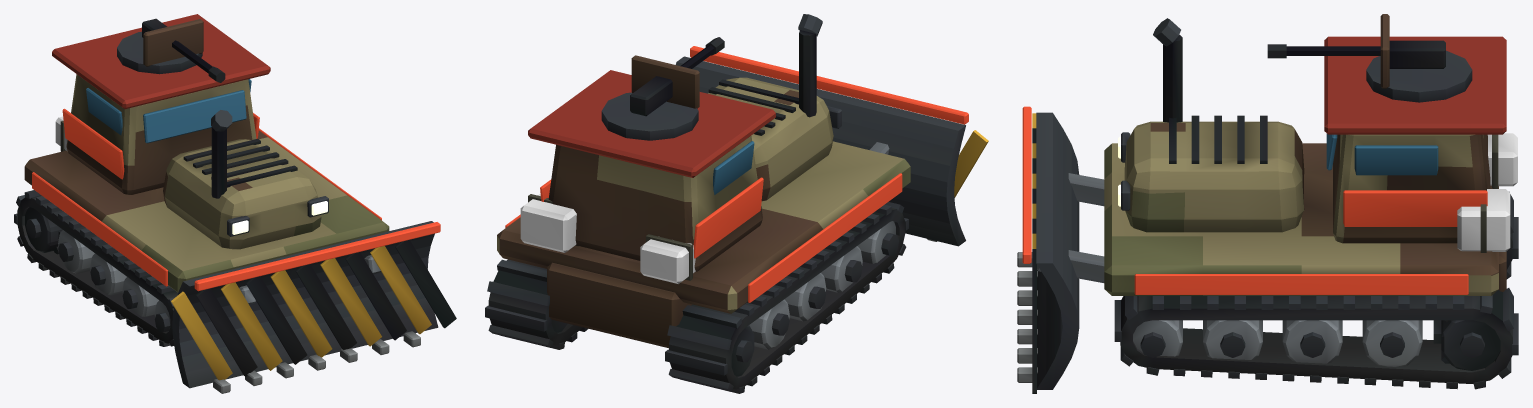
File: bulwark.glb
3 views of the same model, side by side, from view 1: azimuth 30°, elevation 25°; view 2: azimuth 150°, elevation 25°; view 3: azimuth 270°, elevation 25° (orthographic). The views are drawn at different scales.
Visible parts, largest first — view 1: geo_body, geo_track_right, geo_turret, geo_barrel; view 2: geo_body, geo_track_right, geo_turret, geo_track_left, geo_barrel; view 3: geo_body, geo_track_left, geo_turret, geo_barrel, geo_track_right.
Part boxes in pixels (x1,y1,x2,y2): geo_body: [24, 14, 456, 393]; geo_track_right: [14, 190, 177, 346]; geo_turret: [117, 18, 203, 74]; geo_barrel: [172, 40, 225, 82]; geo_body: [497, 14, 988, 348]; geo_track_right: [665, 202, 908, 393]; geo_turret: [601, 55, 699, 140]; geo_track_left: [485, 259, 588, 349]; geo_barrel: [680, 37, 724, 68]; geo_body: [1017, 18, 1517, 393]; geo_track_left: [1114, 288, 1518, 389]; geo_turret: [1366, 14, 1472, 102]; geo_barrel: [1267, 44, 1380, 58]; geo_track_right: [1506, 191, 1518, 279].
Bounding box in the file's own units: 5.37 × 4.29 × 6.61.
